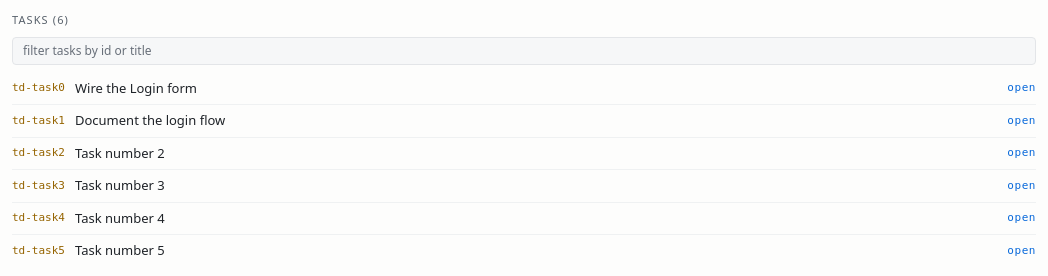
RelatedIssues › search › resets the filter with the clear button
The width and height of the screenshot is (1048, 276).
In the search field named "Search tasks": (524, 50) [12,36,1036,64], type "login"
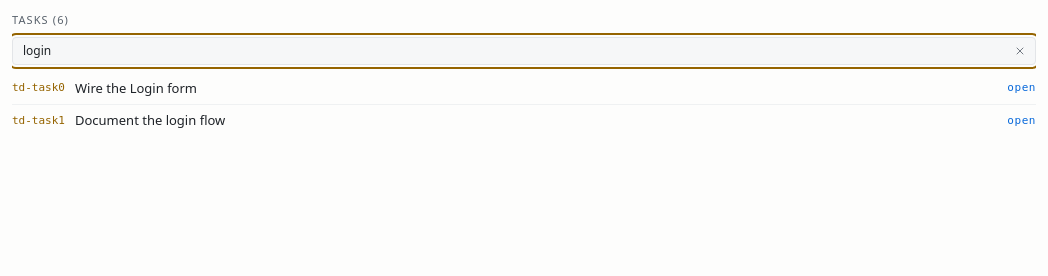
Click the button named "Clear tasks search": (1020, 50) [1010,40,1030,60]
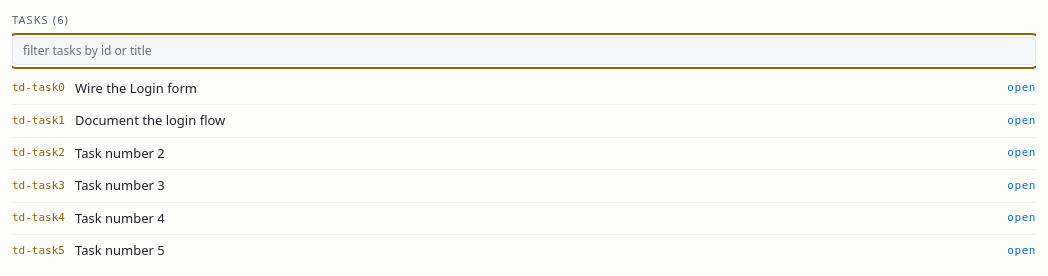
Check: the search field named "Search tasks" is empty, box [12,36,1036,64]
